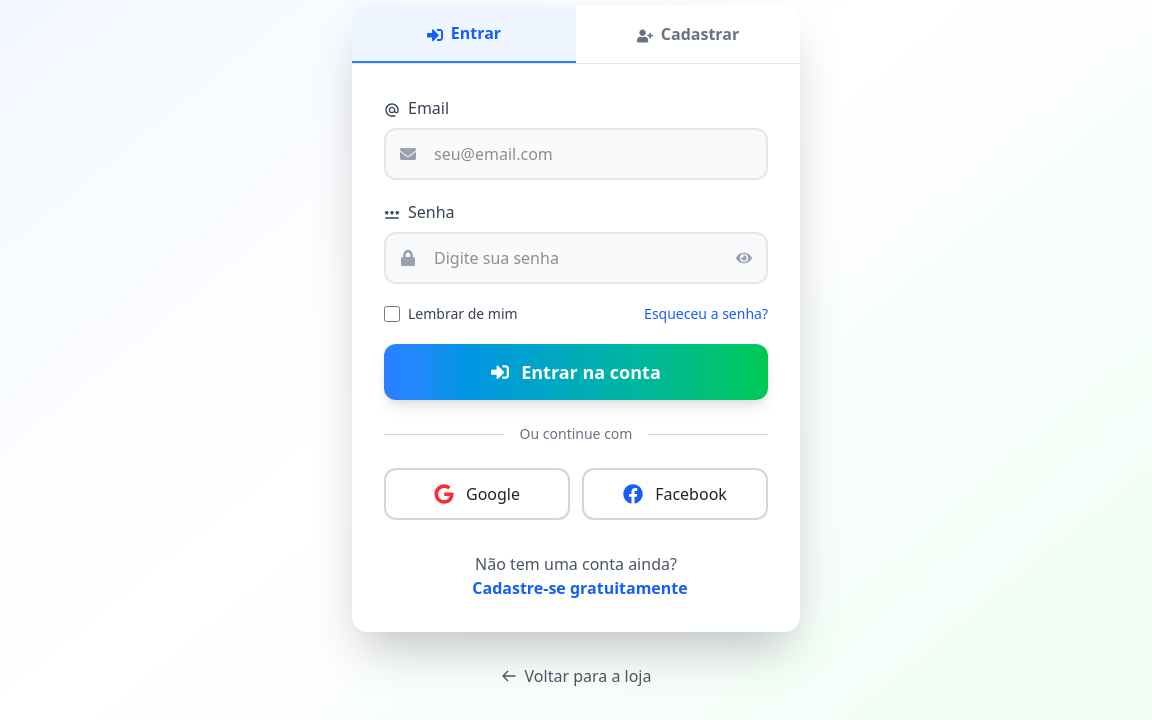
Test case: LoginSignup › deve alternar para cadastro ao clicar
The image size is (1152, 720).
(page scrolled)
What coordinates should you click on to do the following:
click the button "Cadastre-se gratuitamente"
I would click on:
 (580, 588)
Its box is [472,576,688,600].
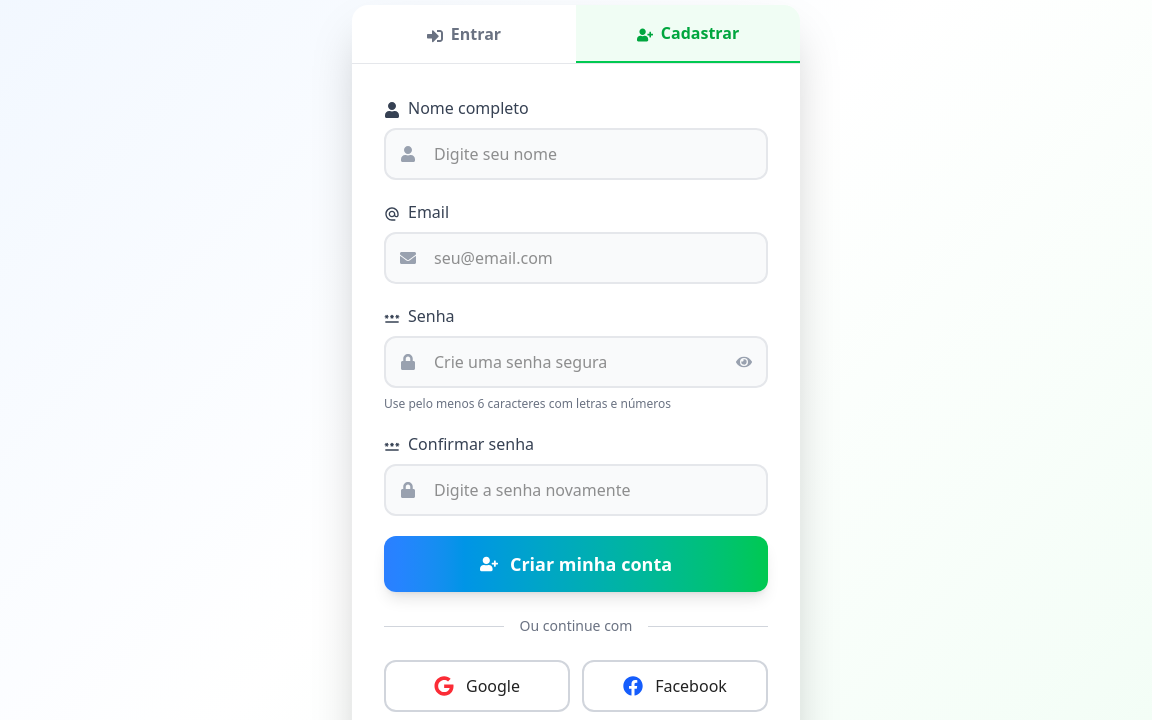
Now the text "Criar minha conta" is shown, box [510,550,672,578]
